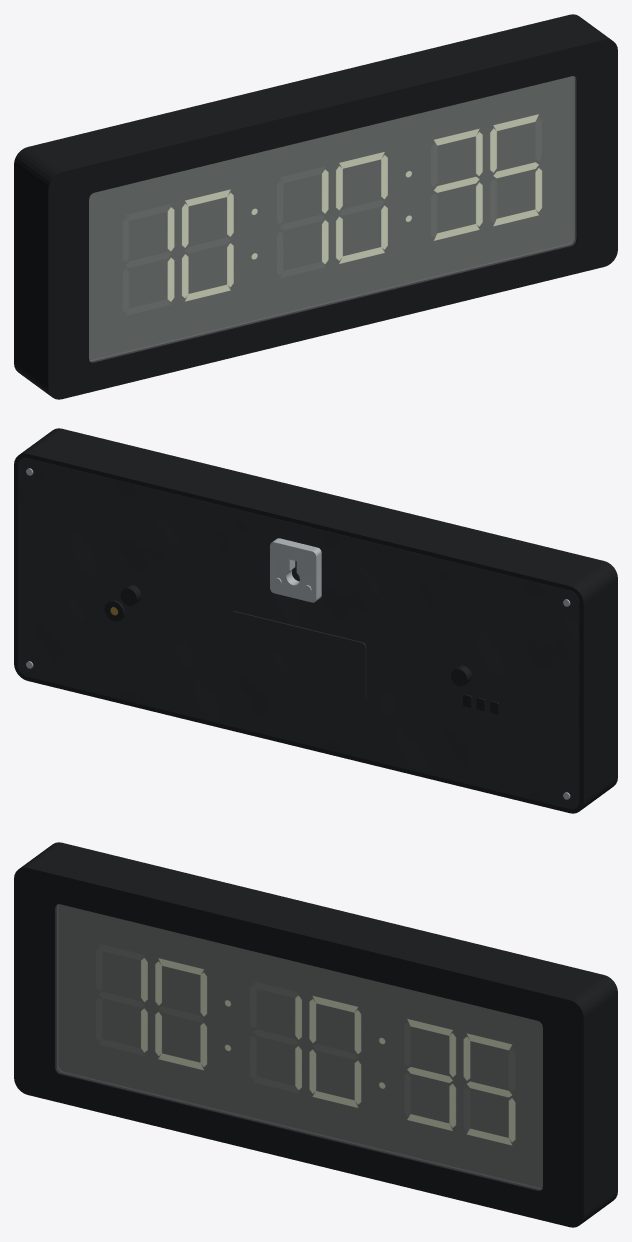
Rendered from digital-wall-clock.glb.
3 views of the same model, one above another, from view 1: azimuth 30°, elevation 25°; view 2: azimuth 150°, elevation 25°; view 3: azimuth 330°, elevation 25° (orthographic).
Visible parts, largest first — view 1: Seated finite digital glass, Original six digit display panel, Closed digital frame housing; view 2: Seated digital backplate, Closed digital frame housing, Battery service cover, Rear keyhole mounting tab; view 3: Seated finite digital glass, Original six digit display panel, Closed digital frame housing.
Part boxes in pixels (<box>): Seated finite digital glass: <box>89,76,576,362</box>; Original six digit display panel: <box>89,76,573,359</box>; Closed digital frame housing: <box>14,14,617,399</box>; Seated digital backplate: <box>18,458,579,809</box>; Closed digital frame housing: <box>14,428,617,813</box>; Battery service cover: <box>230,611,366,702</box>; Rear keyhole mounting tab: <box>270,538,321,602</box>; Seated finite digital glass: <box>55,904,542,1190</box>; Original six digit display panel: <box>58,904,542,1187</box>; Closed digital frame housing: <box>14,842,617,1227</box>.
Bounding box in the file's own units: 0.42 × 0.16 × 0.0522.
7 materials, 6 textured.
